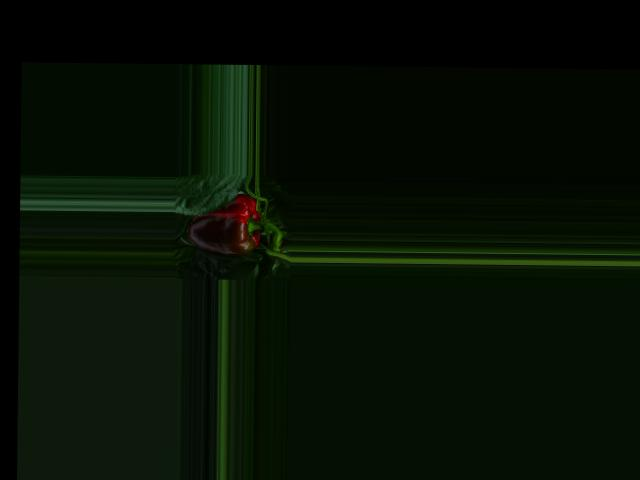bell_pepper: (182, 190, 270, 265)
